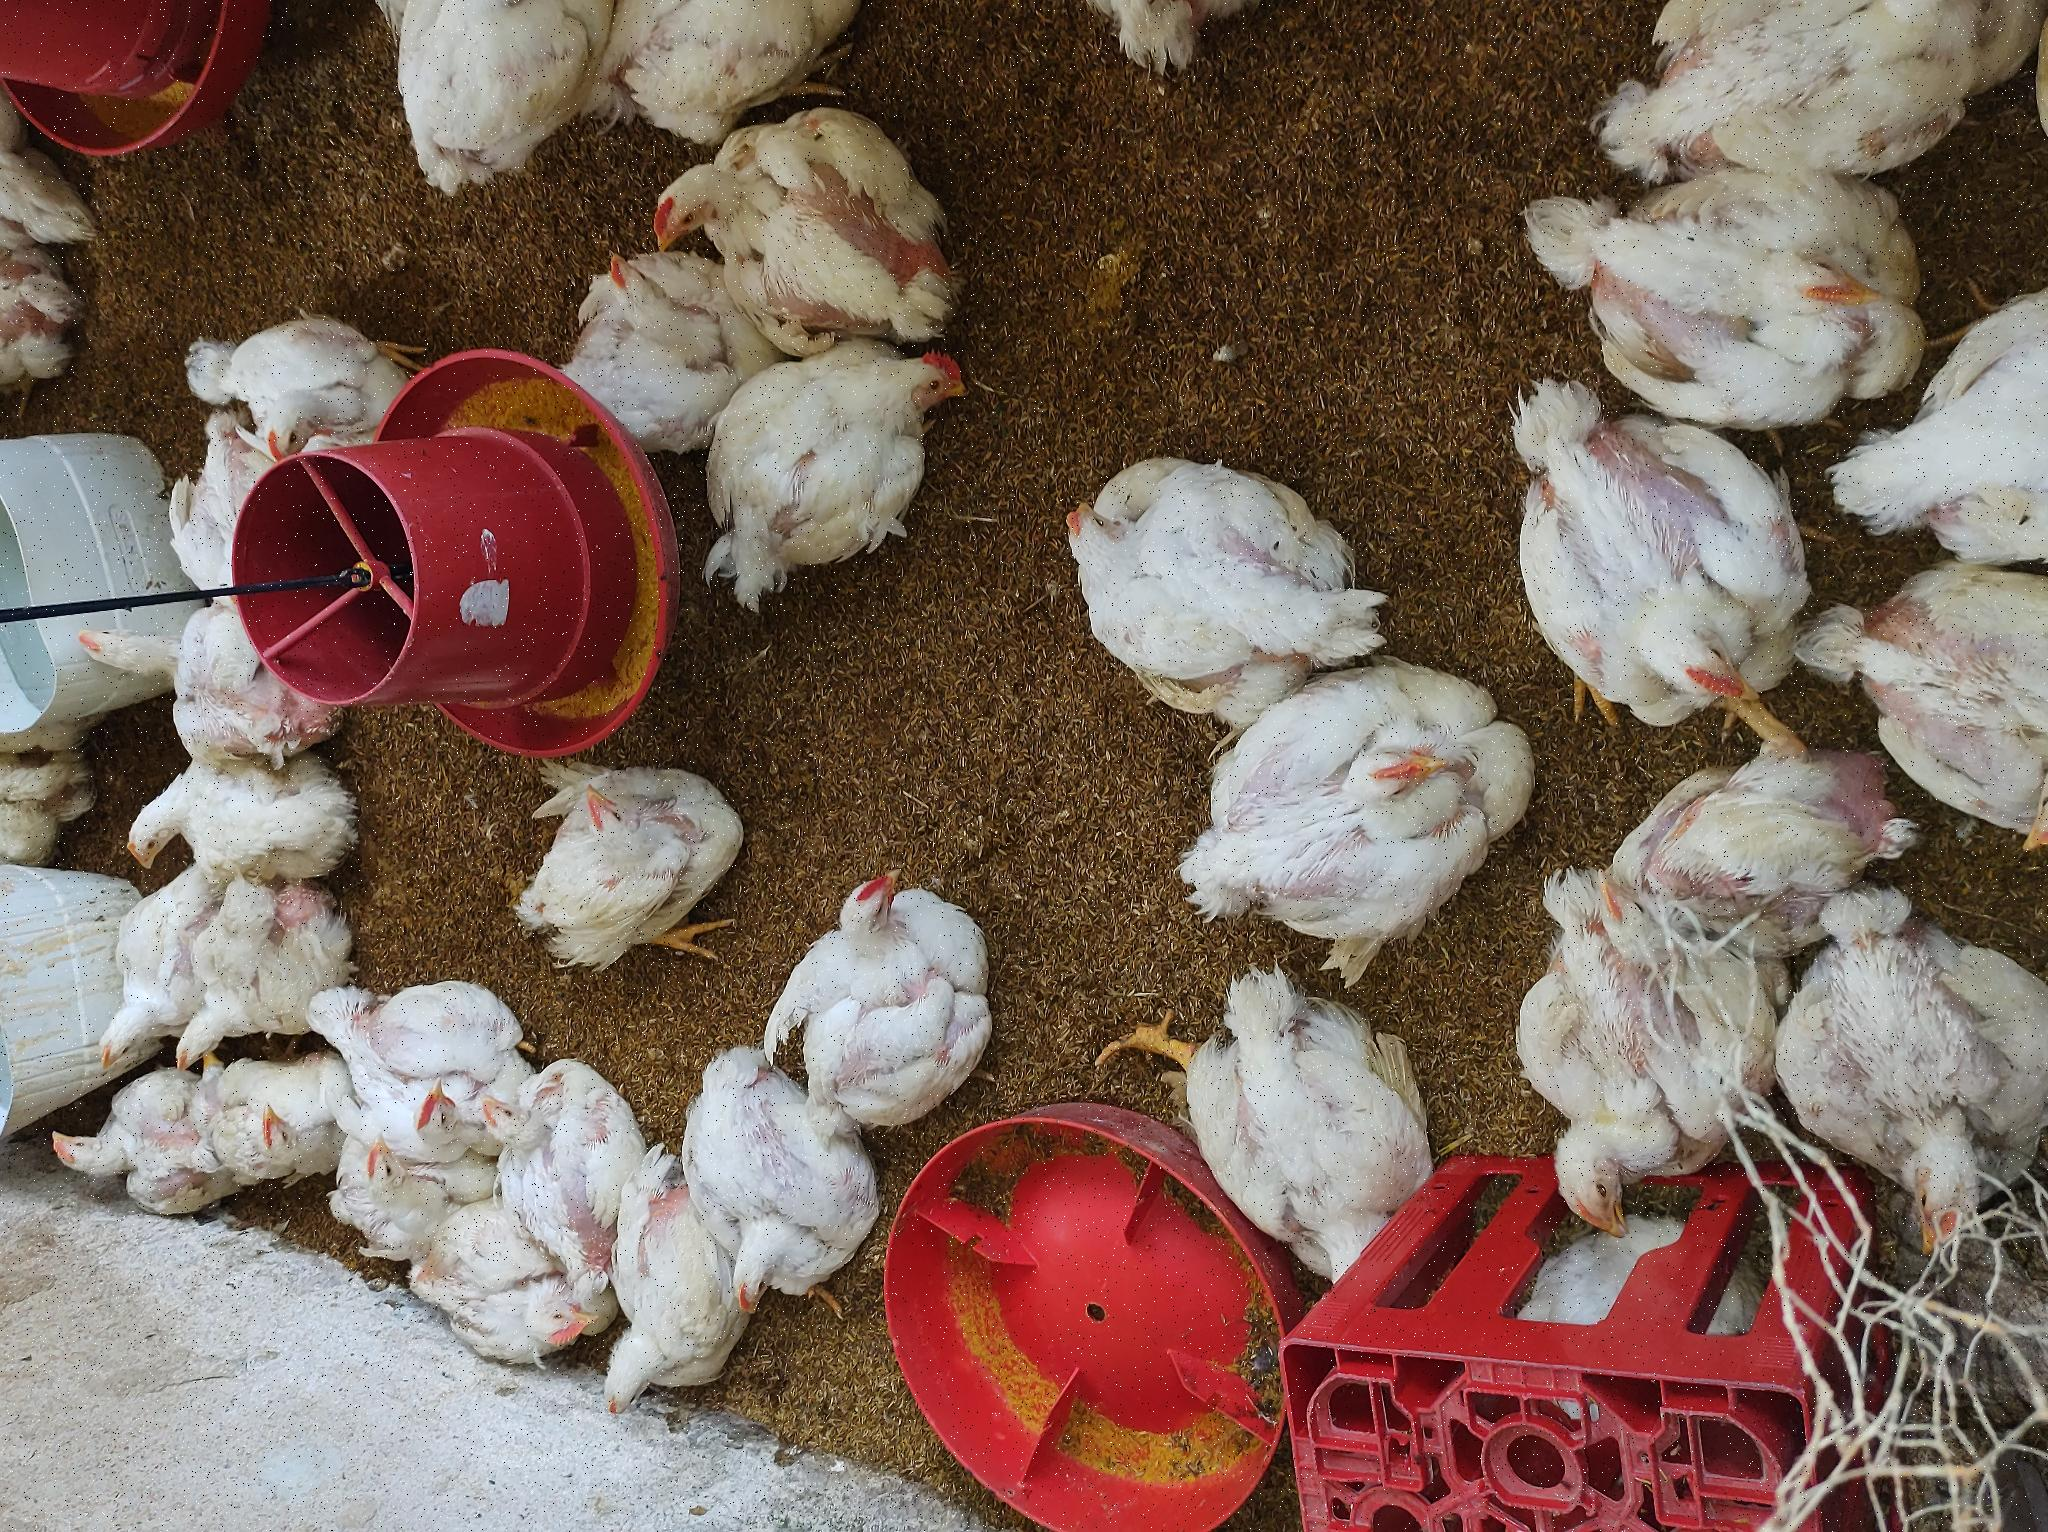Pollos: (201, 1083, 590, 1415), (579, 1159, 898, 1505), (817, 1088, 1126, 1389), (896, 676, 1181, 986), (1181, 649, 1425, 957), (550, 512, 774, 758), (434, 747, 637, 1015), (236, 661, 470, 890), (93, 599, 389, 755), (1363, 360, 1533, 603), (148, 364, 388, 536), (1065, 204, 1242, 414), (1401, 562, 1533, 840), (1097, 562, 1308, 731), (766, 82, 935, 291), (463, 172, 656, 333), (368, 344, 561, 496), (256, 492, 462, 623), (640, 114, 759, 340), (911, 145, 1071, 299), (343, 195, 467, 369), (310, 43, 444, 187), (1134, 2, 1282, 101), (470, 80, 642, 166), (1271, 2, 1400, 101)
